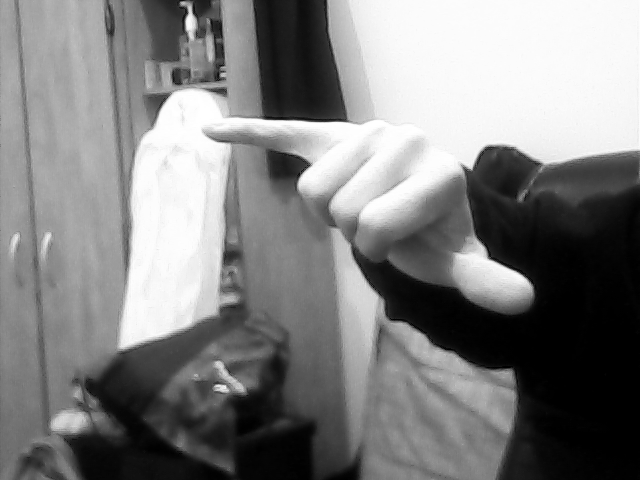aloha: (187, 104, 539, 323)
